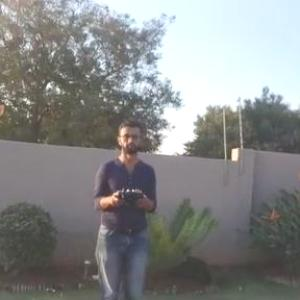follow: (90, 114, 164, 299)
